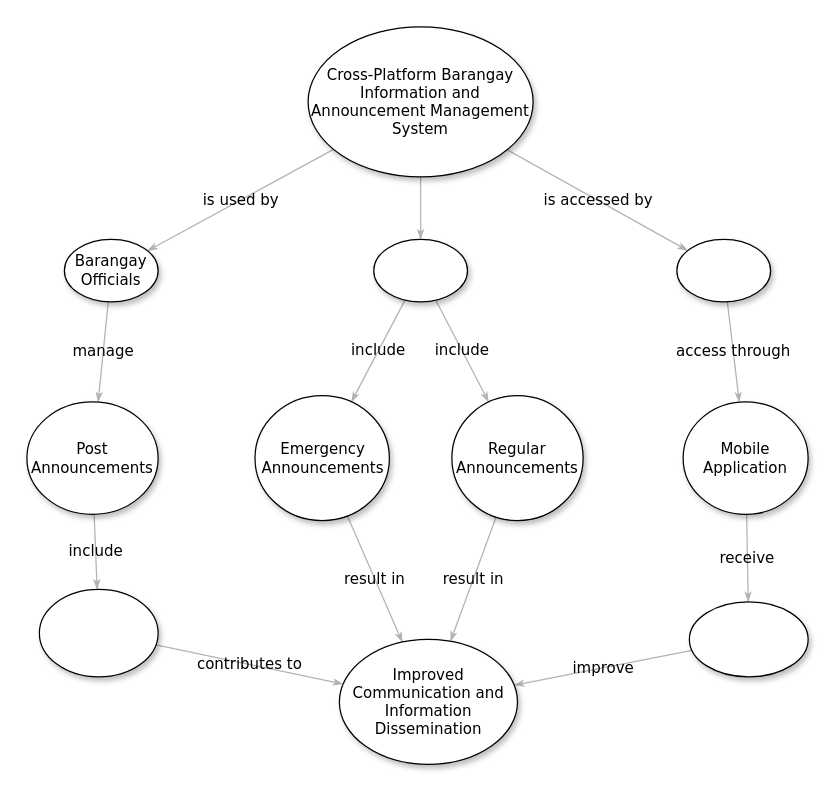
This 838x795 diagram has some shape labels left out. The centre of each missing label's shape, as x and y in pixels:
"Community Information" goes at (749,641).
"Residents" goes at (724,272).
"Service Scheduling" goes at (99,634).
"System Functions" goes at (421,272).
